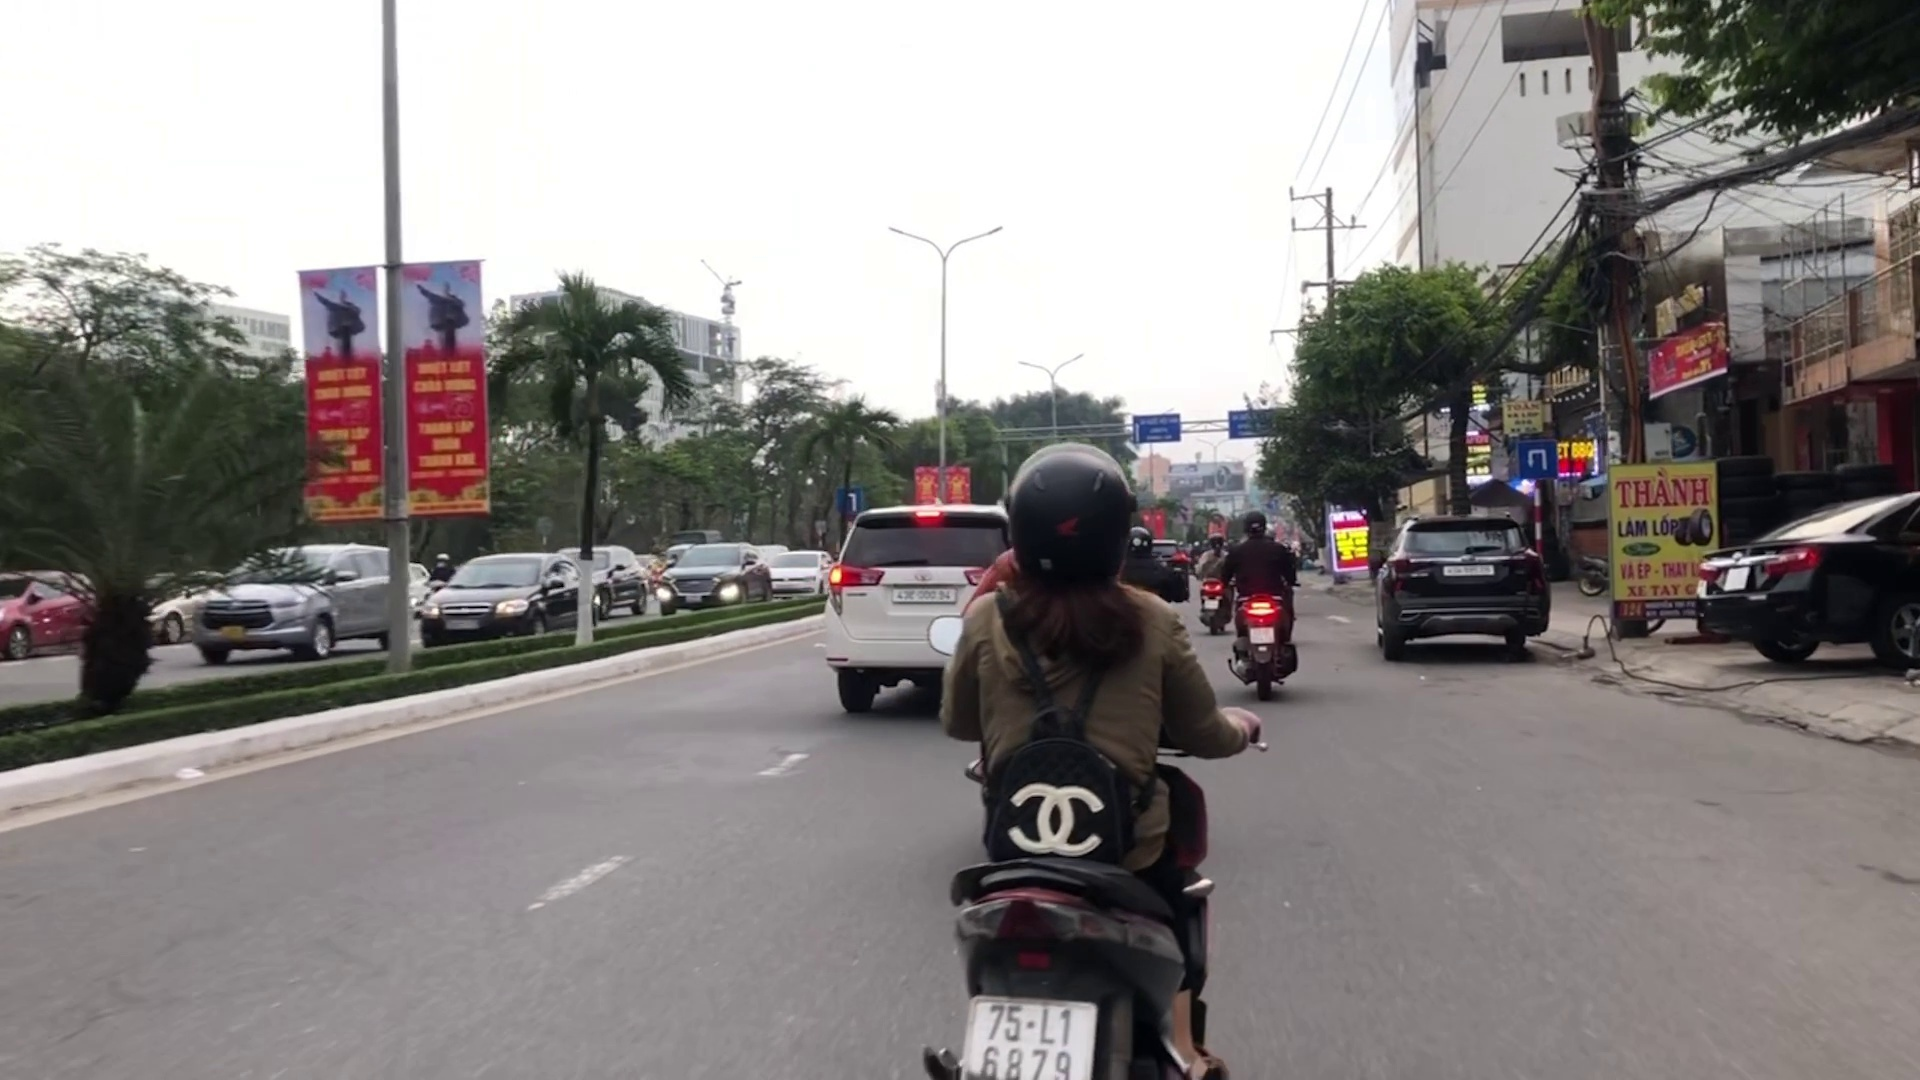Bien khac: (1514, 440, 1560, 481), (837, 484, 860, 513)
